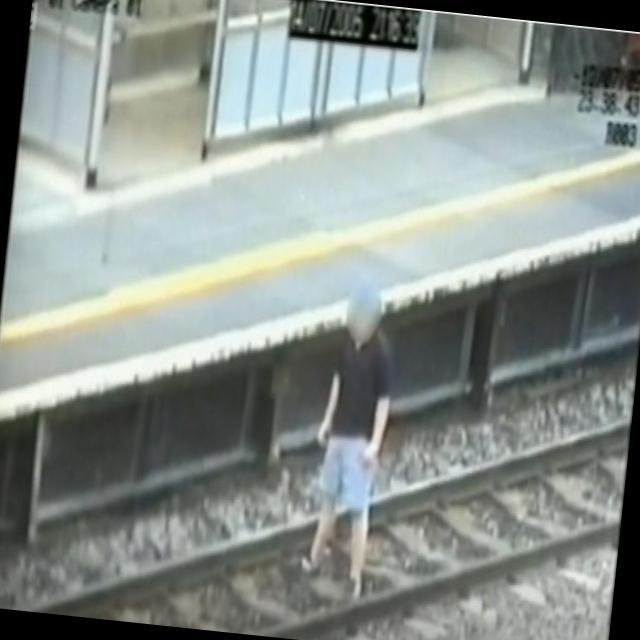person: (300, 235, 411, 612)
